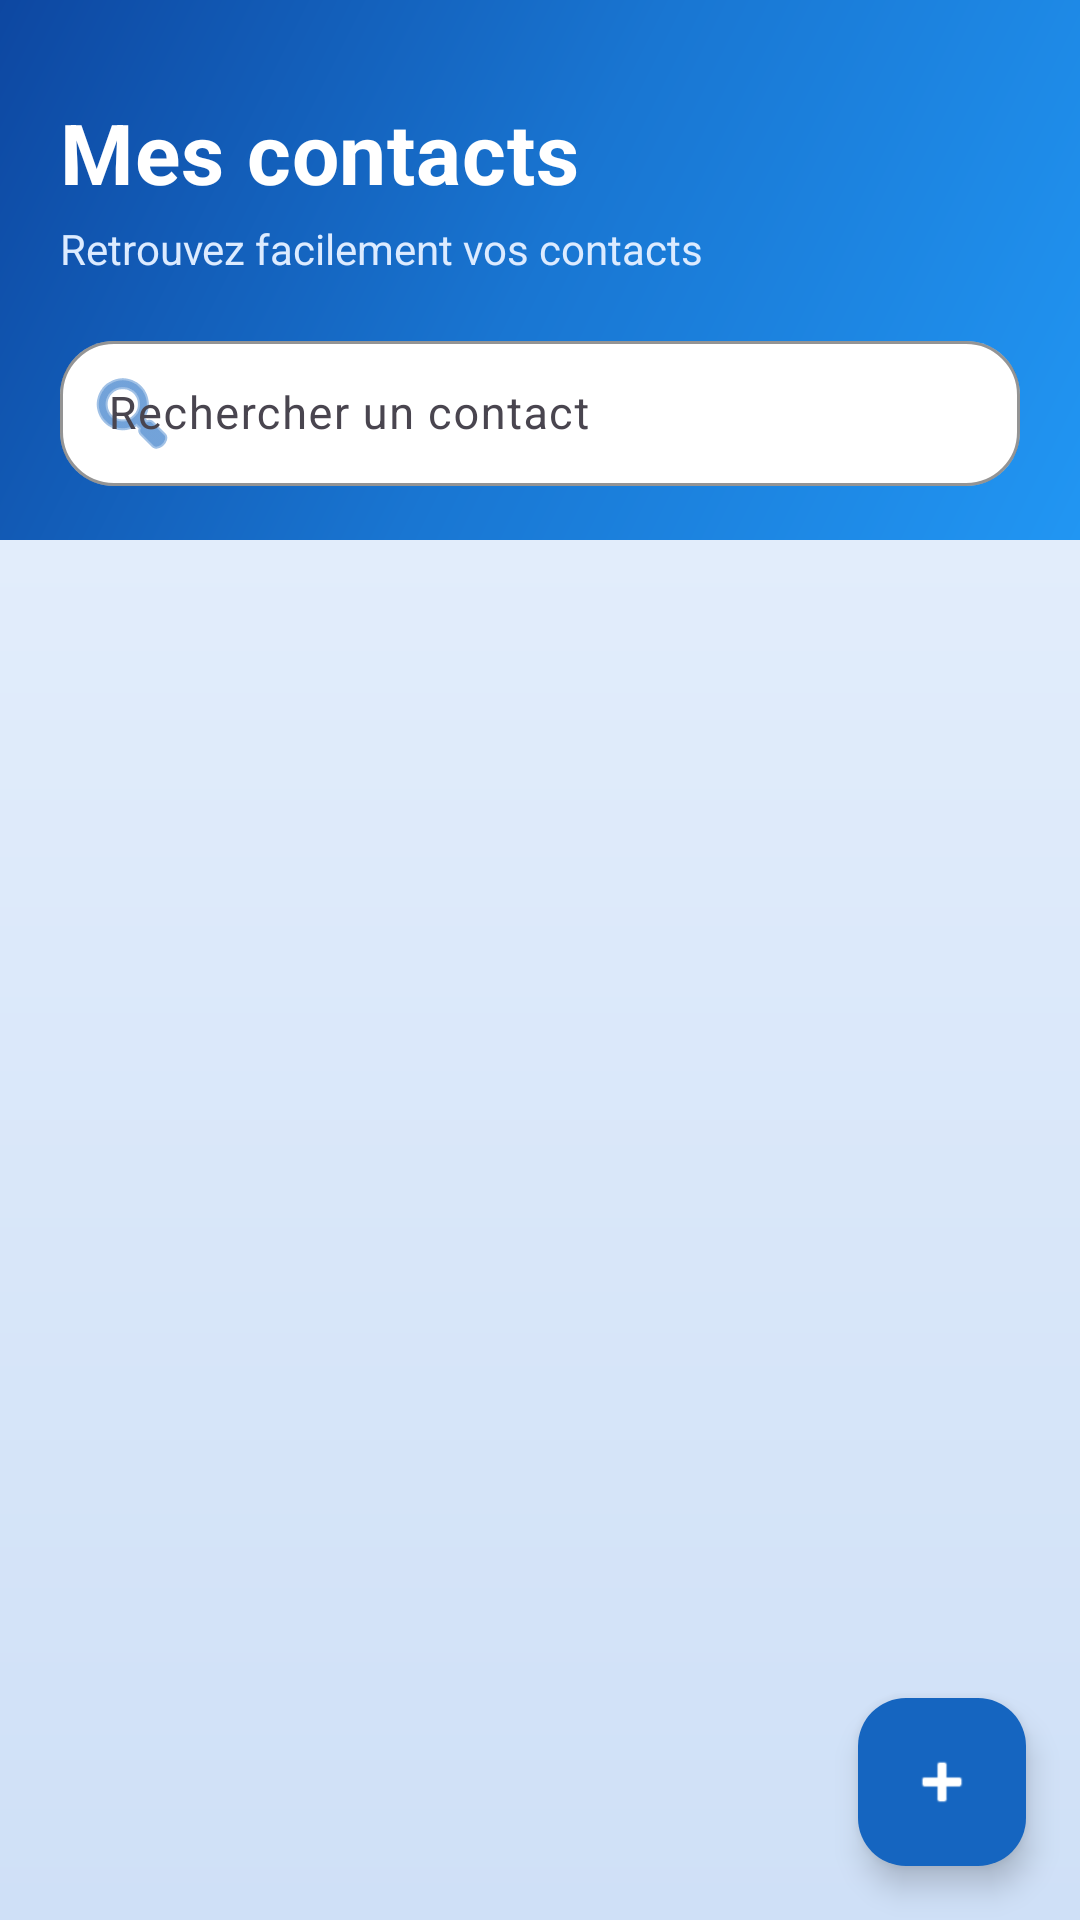

Locate icon controls on the screen. Image size 1080px×1920px, boxes as (x1, y1, x2, y2).
Ajouter un contact: (858, 1698, 1026, 1866)
